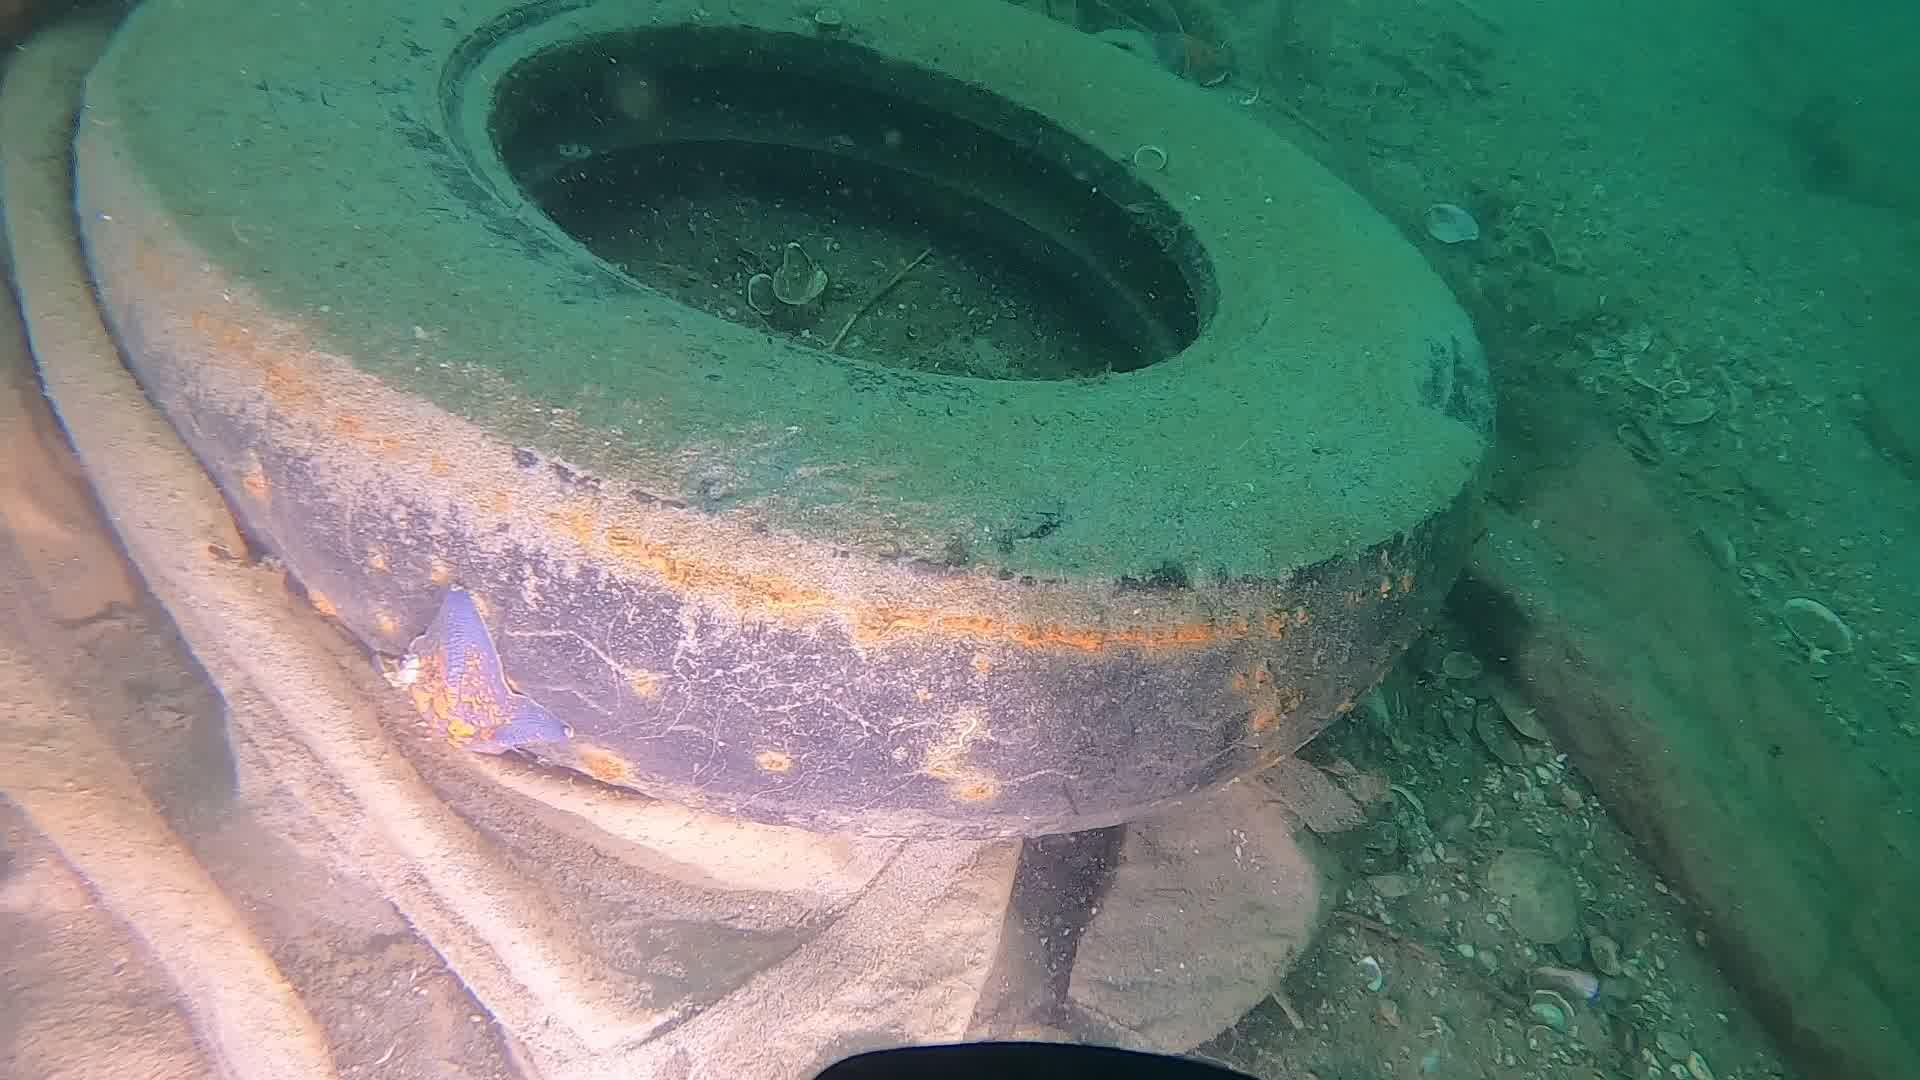tire: (69, 0, 1499, 840)
